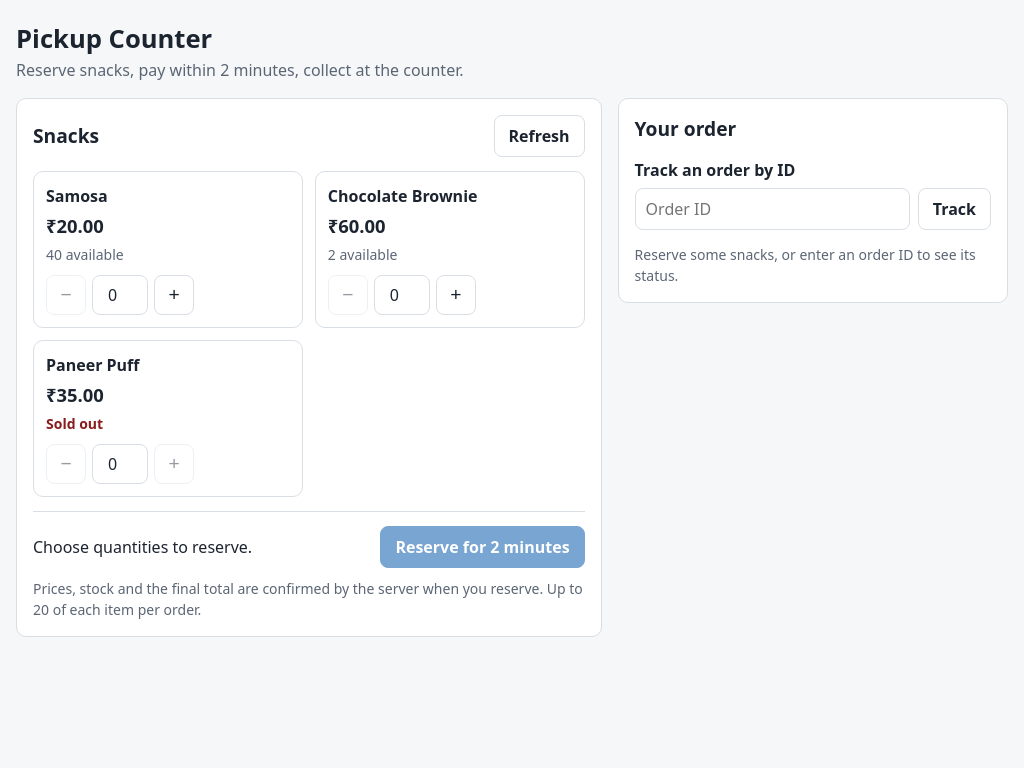
it: order creation › sends only the accepted fields, blocks double submits, and shows the created order
Click the button named "Increase Samosa" at (174,295), box [154, 275, 194, 315]
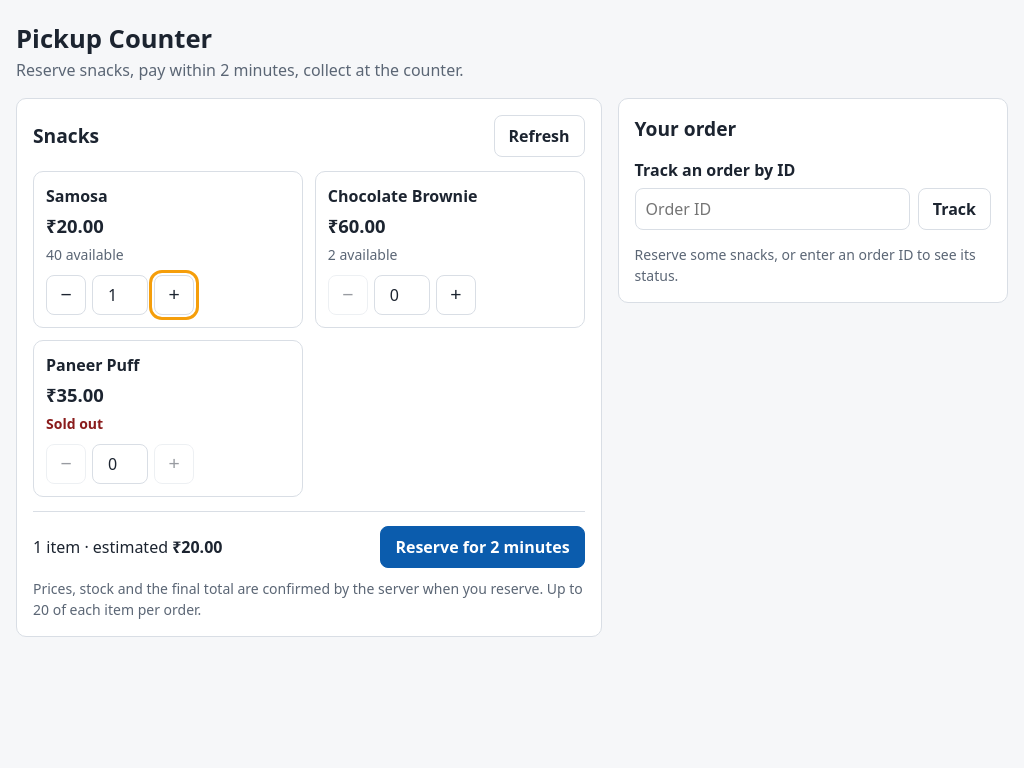
Click the button named "Increase Samosa" at (174,295), box [154, 275, 194, 315]
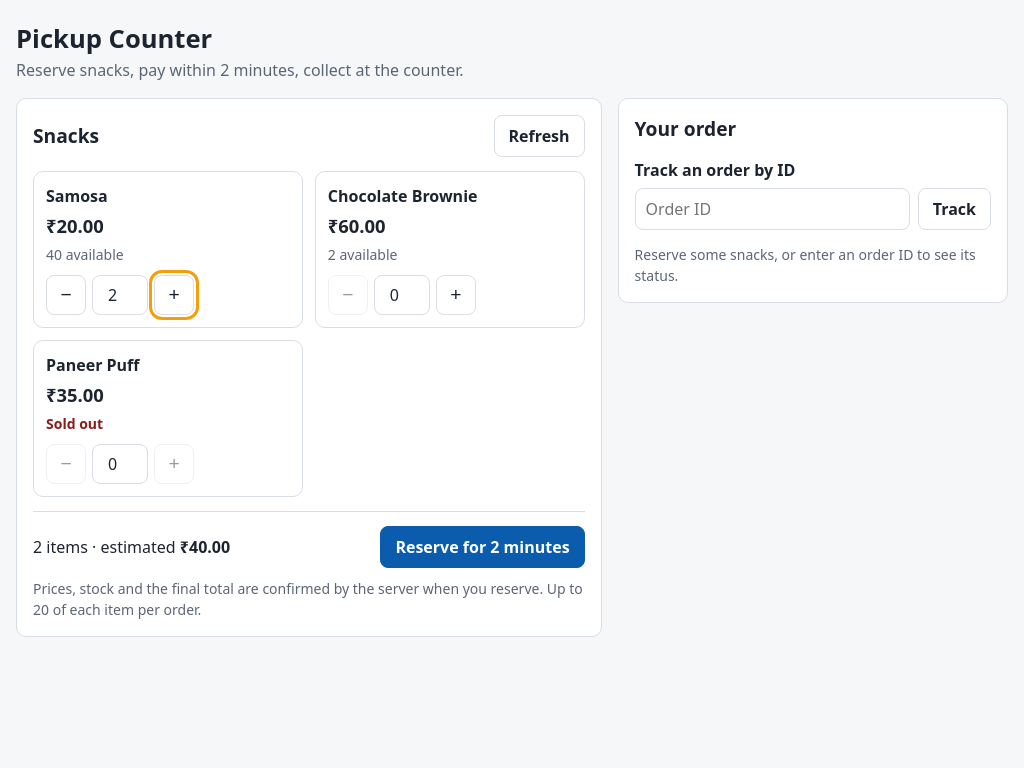
Expected: the text "₹40.00" is shown, [180, 536, 230, 558]
Click the button "Reserve for 2 minutes" at (482,547), box [380, 526, 585, 568]
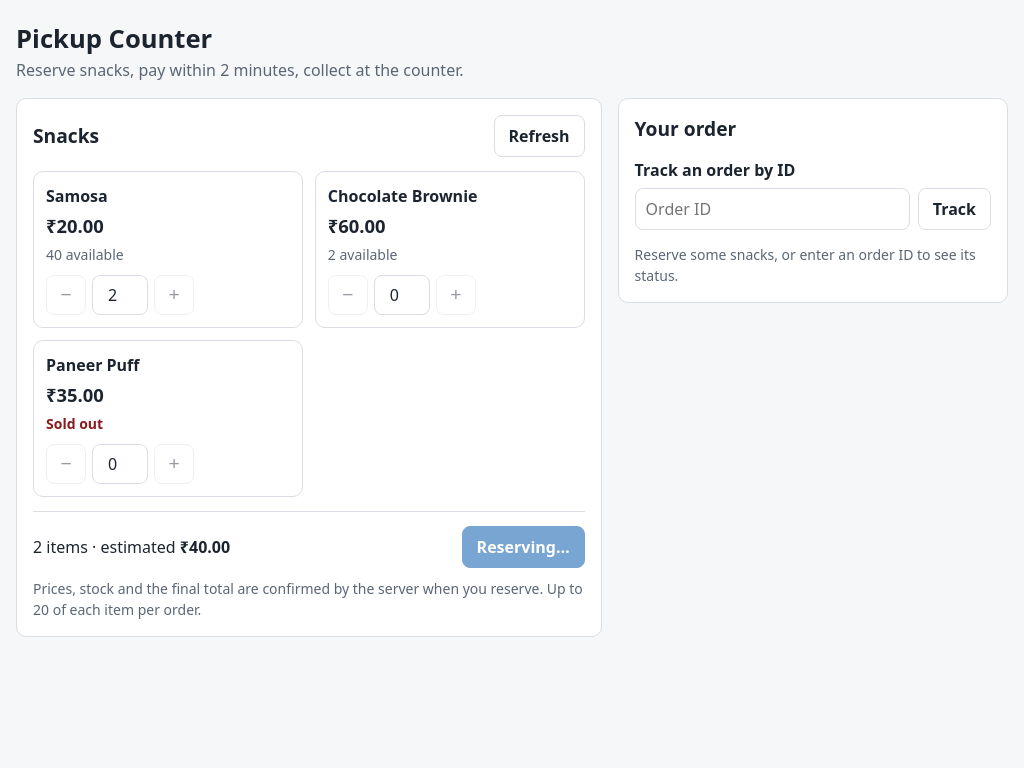
Expected: the button "Reserving…" is disabled
Click the button "Reserving…" at (523,547), box [462, 526, 585, 568]
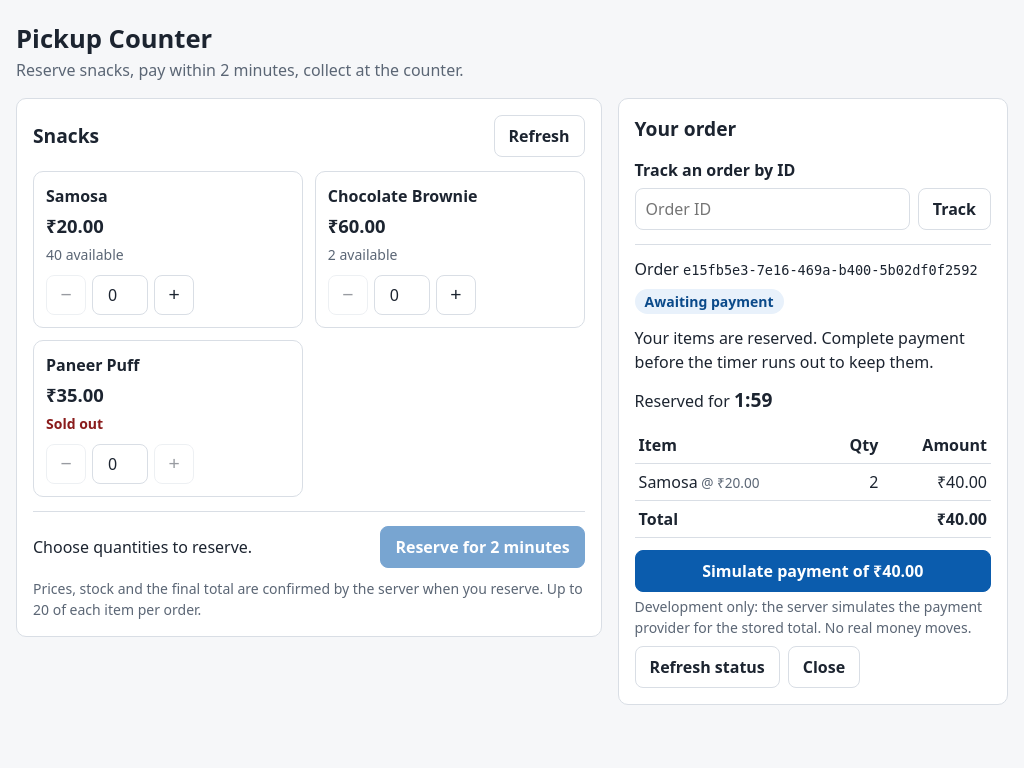
Expected: the text "e15fb5e3-7e16-469a-b400-5b02df0f2592" is shown, [683, 262, 978, 278]
Expected: the text with id "order-status" reads "Awaiting payment", [645, 292, 774, 311]
Expected: the text "1:59" is shown, [734, 386, 772, 413]
